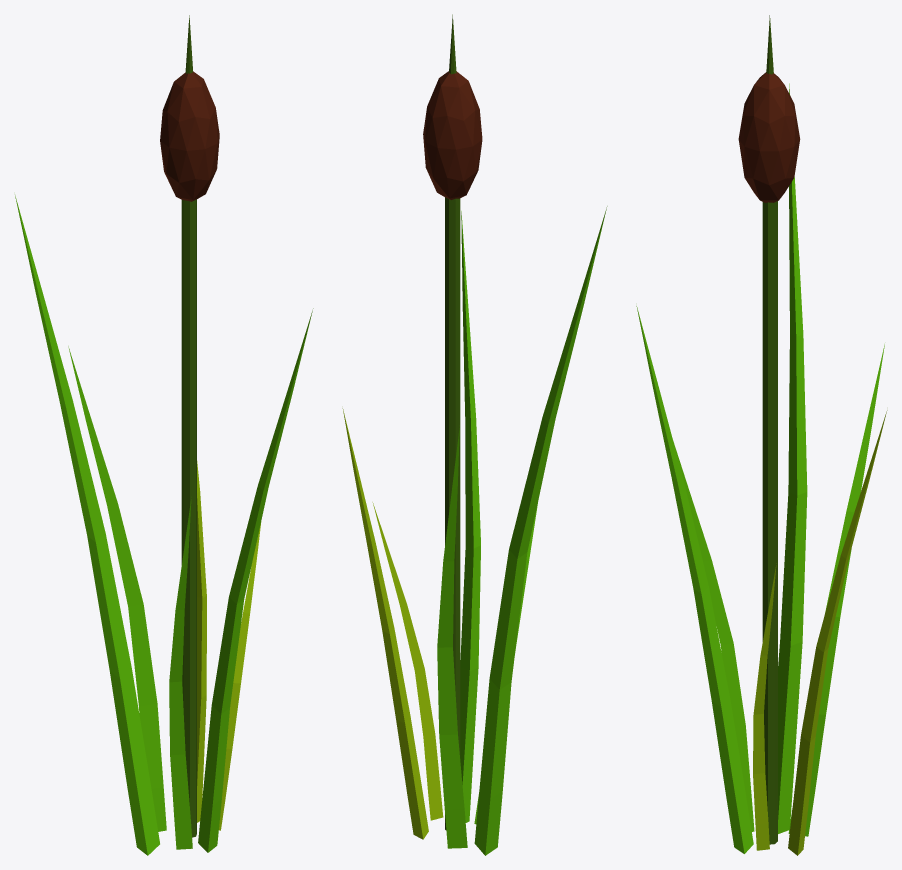
Rendered from reed.obj.
The picture shows the model from 3 angles, left to right: view 1: azimuth 30°, elevation 25°; view 2: azimuth 150°, elevation 25°; view 3: azimuth 270°, elevation 25°; orthographic projection.
Visible parts, largest first — view 1: Icosphere; view 2: Icosphere; view 3: Icosphere.
Boxes of the visible parts, left/top/right/bottom form: Icosphere: left=15, top=15, right=313, bottom=855; Icosphere: left=342, top=14, right=607, bottom=855; Icosphere: left=636, top=15, right=887, bottom=855.
Size of the model in its own units: 0.9304 by 3.03 by 0.8274.
